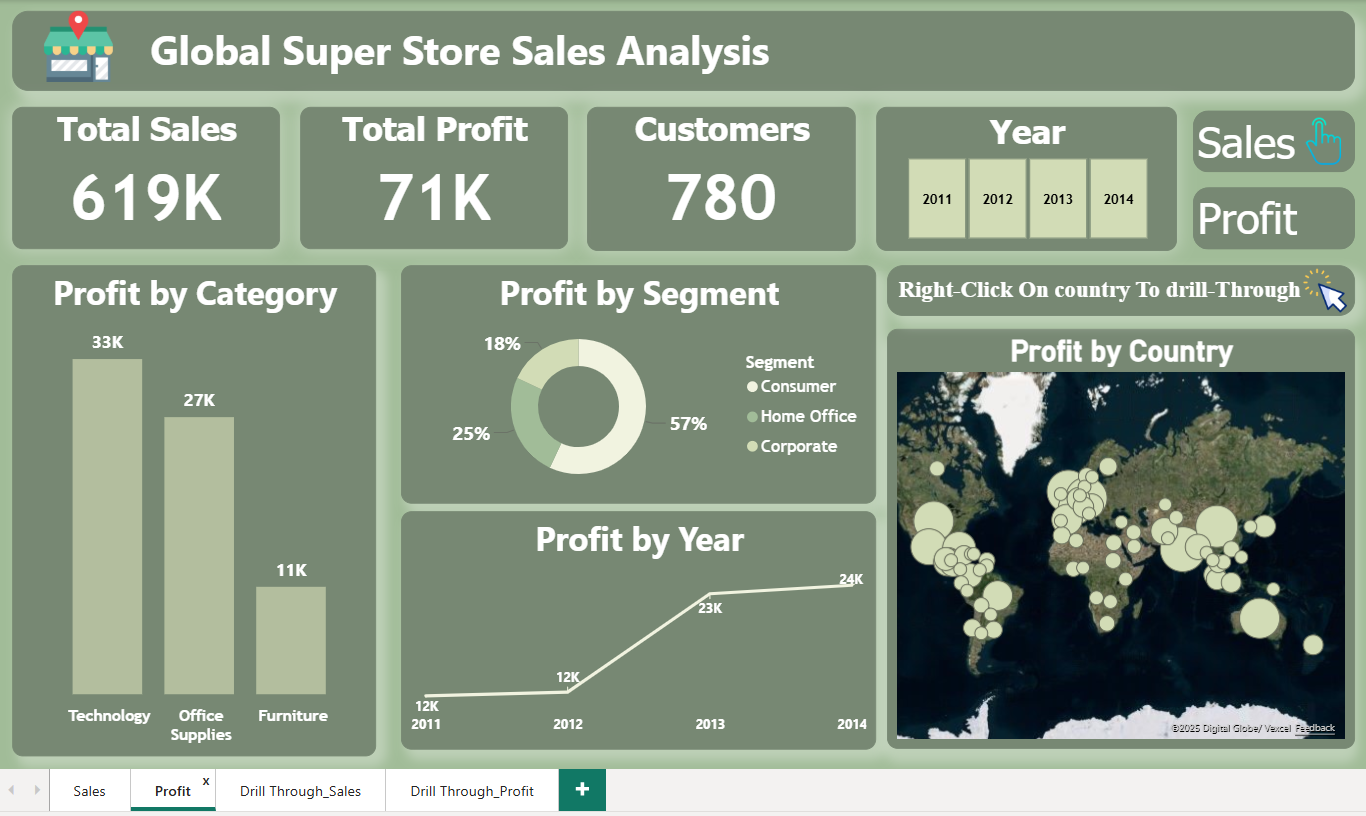

This screenshot's page, from the dashboard's own definition file:
{"tool":"powerbi","page":{"name":"Profit","canvas":[1280,720],"ordinal":1},"visuals":[{"type":"textbox","box":[12.4,10.1,1257.5,75.3],"z":0},{"type":"image","box":[20.2,10.1,107.9,66.3],"z":1000},{"type":"cardVisual","title":"Customers","fields":{"Data":["Dax Measure.Customers"]},"box":[551,99.9,251.7,134.9],"z":2000},{"type":"cardVisual","title":"Total Sales","fields":{"Data":["Dax Measure.T_Sales"]},"box":[12.4,100.4,250.6,133.7],"z":3000},{"type":"cardVisual","title":"Total Profit","fields":{"Data":["Dax Measure.T_profit"]},"box":[281.7,100.4,250.6,133.7],"z":4000},{"type":"shape","box":[1118.1,103.4,151.7,58],"z":5000},{"type":"shape","box":[1118.1,175.3,151.7,58.4],"z":6000},{"type":"columnChart","title":"Profit by Category","fields":{"Category":["Orders.Category"],"Y":["Dax Measure.T_profit"]},"box":[12.4,248.4,340.5,459.6],"z":7000},{"type":"donutChart","title":"Profit by Segment","fields":{"Category":["Orders.Segment"],"Y":["Dax Measure.T_profit"]},"box":[376.5,248.4,445,223.6],"z":8000},{"type":"slicer","title":"Year","fields":{"Values":["Orders.Order Date.Variation.Date Hierarchy.Year"]},"box":[821.5,100,282.1,134.9],"z":9000},{"type":"lineChart","title":"Profit by Year","fields":{"Category":["Orders.Order Date.Variation.Date Hierarchy.Year"],"Y":["Dax Measure.T_profit"]},"box":[376.5,478.7,445,223],"z":10000},{"type":"azureMap","title":"Profit by Country","fields":{"Category":["Orders.Country"],"Size":["Dax Measure.T_profit"]},"box":[831.6,307.9,438.3,393.3],"z":11000},{"type":"image","box":[1218.2,110.1,43.8,43.8],"z":12000},{"type":"textbox","box":[831.6,248.4,438.3,47.2],"z":13000},{"type":"image","box":[1221.5,248.4,40.5,47.2],"z":14000}]}

Visuals, with their boxes on the page's 1280x720 design canvas (x1, y1, x2, y2). These are canvas units, not pixel positions in the 1366x816 screenshot, which may show the page scaled, cropped or inside an application window:
textbox: 12 10 1270 85
image: 20 10 128 76
"Customers" cardVisual: 551 100 803 235
"Total Sales" cardVisual: 12 100 263 234
"Total Profit" cardVisual: 282 100 532 234
shape: 1118 103 1270 161
shape: 1118 175 1270 234
"Profit by Category" columnChart: 12 248 353 708
"Profit by Segment" donutChart: 376 248 822 472
"Year" slicer: 822 100 1104 235
"Profit by Year" lineChart: 376 479 822 702
"Profit by Country" azureMap: 832 308 1270 701
image: 1218 110 1262 154
textbox: 832 248 1270 296
image: 1222 248 1262 296
